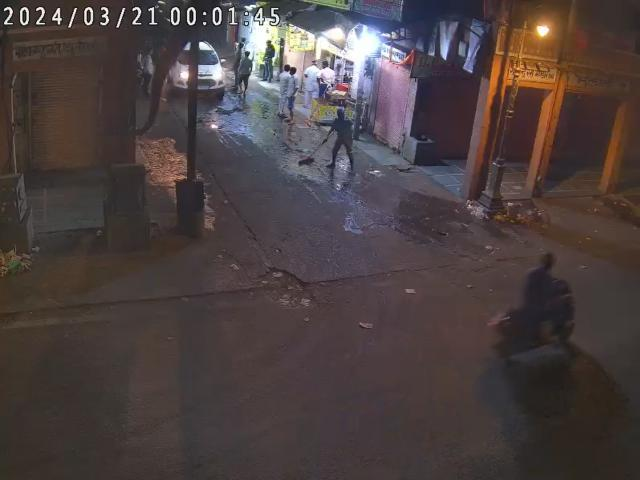helmet: (532, 250, 556, 270)
motorbike-rider: (483, 252, 581, 382)
person: (326, 108, 361, 176)
